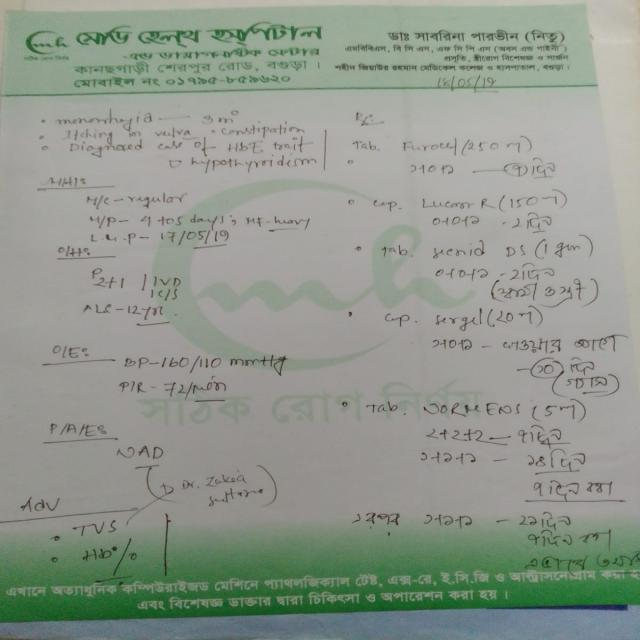Furocef: (397, 131, 462, 156)
Lucan R: (418, 196, 496, 212)
Normens: (418, 398, 527, 419)
Secnid DS: (430, 242, 531, 262)
Sergel: (429, 306, 488, 330)
